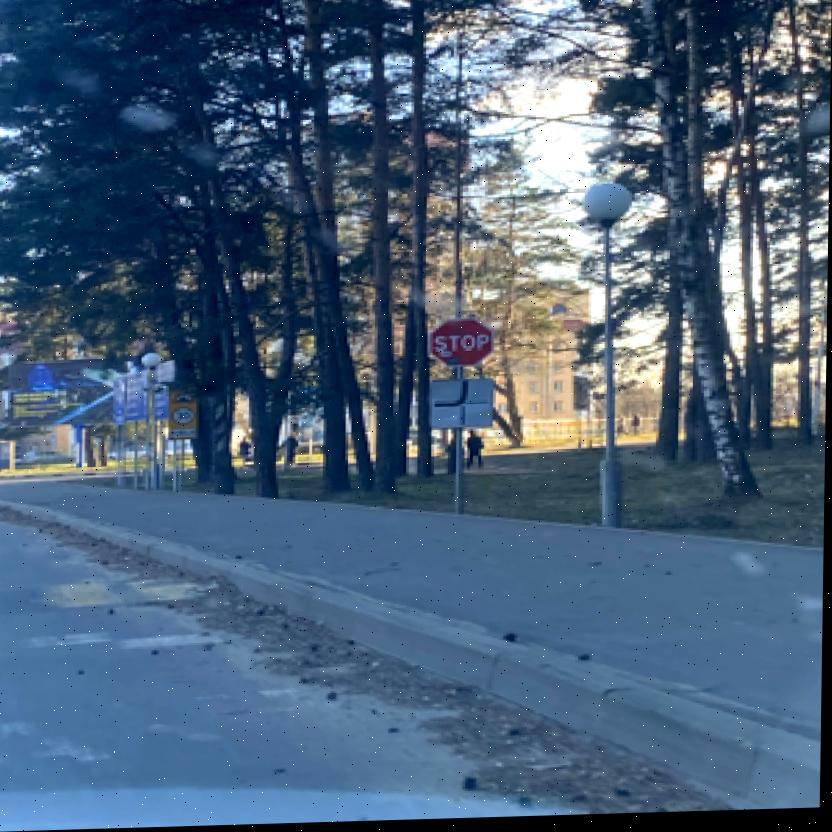Pole: (600, 239, 620, 529), (452, 371, 465, 517)
Sign: (428, 318, 497, 370)
